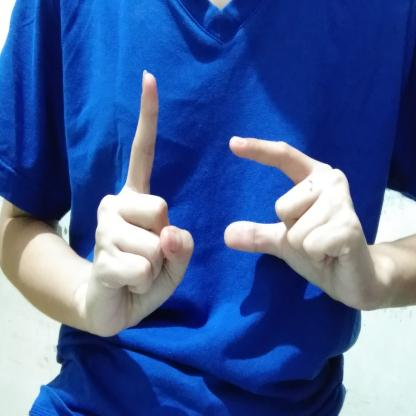daughter: (86, 65, 391, 354)
